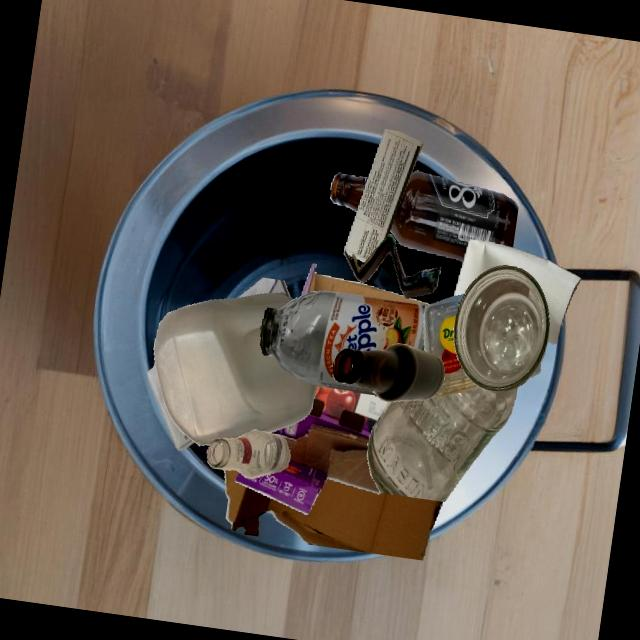cardboard: (223, 469, 442, 560), (235, 385, 388, 515), (344, 234, 441, 299)
glass: (260, 291, 429, 396), (367, 387, 516, 502), (453, 265, 550, 392), (390, 171, 518, 262), (332, 343, 445, 402), (207, 430, 290, 478)
paper: (453, 239, 581, 344), (344, 129, 423, 263), (147, 365, 194, 450), (237, 278, 291, 299)
plastic: (154, 293, 317, 446), (423, 294, 482, 398)
